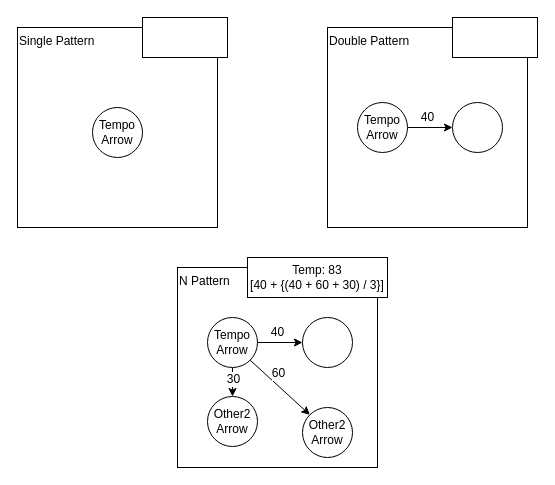
This 555x485 diagram has some shape labels left out. Here are the shapes that lost their labels. From the top down, the centre of each, then its label:
the point at 185,37: Temp: 40
the point at 495,37: Temp: 80 [40 + 40]
the point at 477,127: Other Arrow
the point at 327,342: Other1 Arrow
